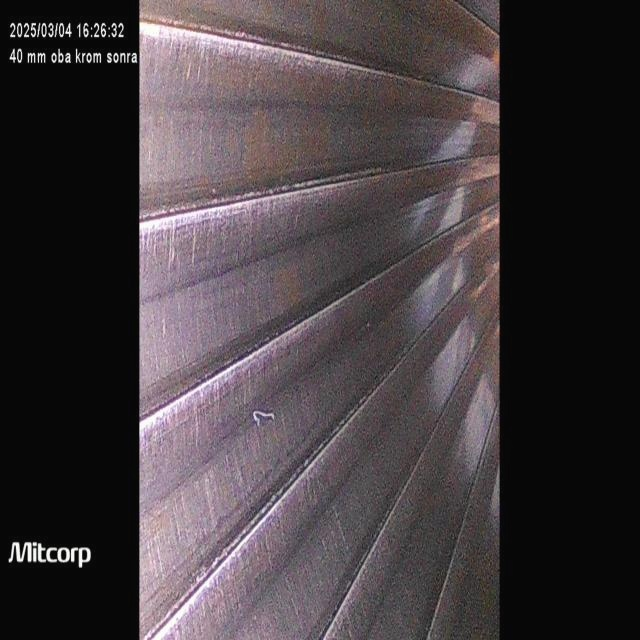hata_2.3: (151, 133, 450, 261)
